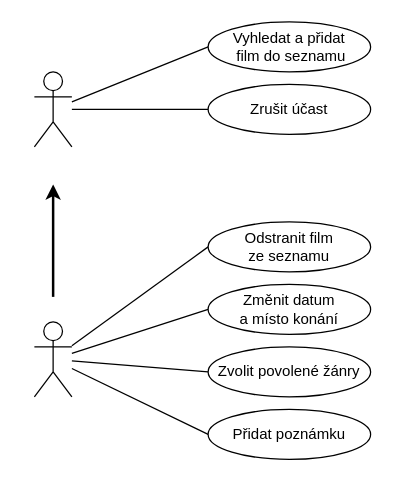
The diagram is 393 pixels wide and 481 high, and some of its shapes have lost their labels. The shapes that lost their labels are listed below. From the top down, each one's box as (x1, y1, x2, y2) in pixels, then its label:
(33, 71, 72, 147): Účastník
(33, 321, 72, 397): Pořadatel
